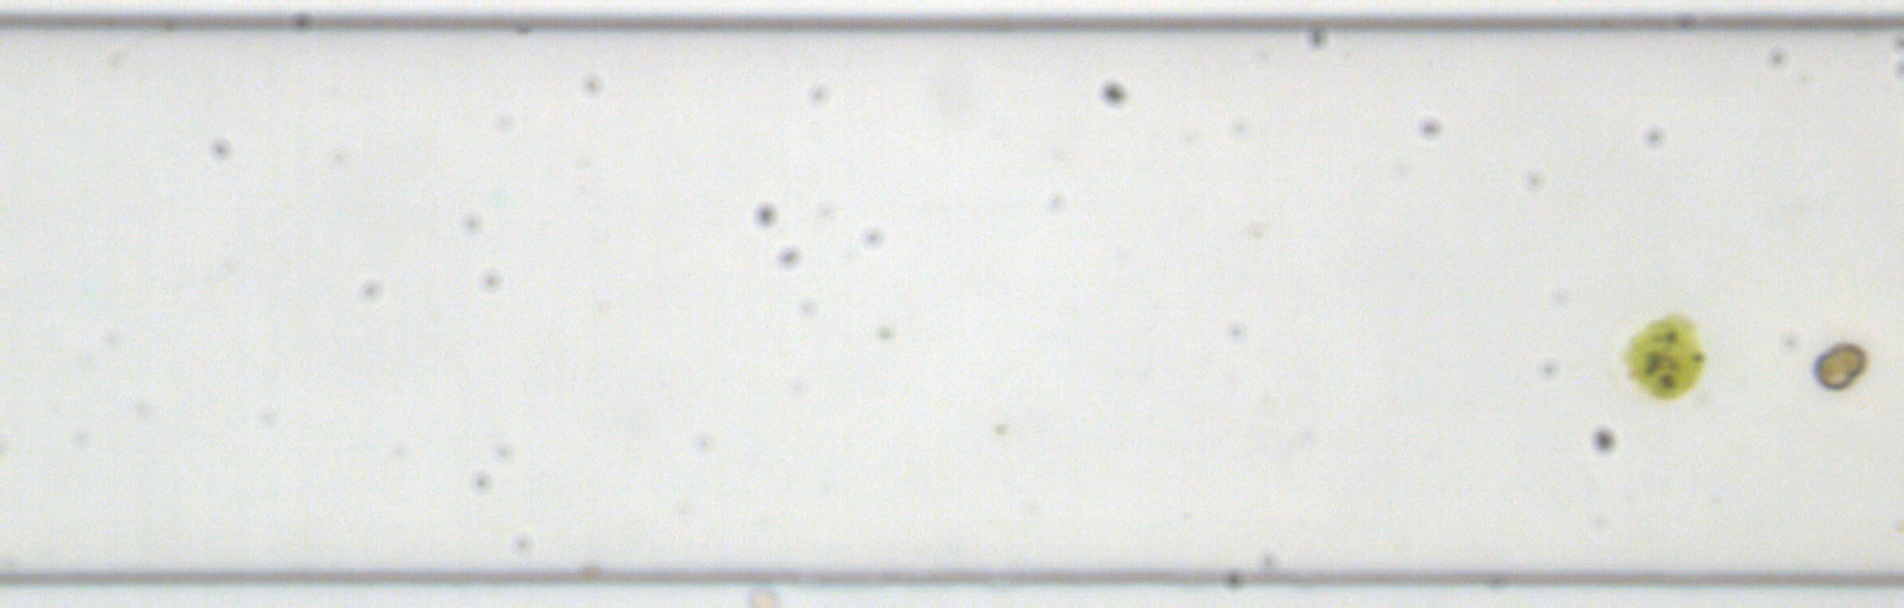Chlorella: (875, 322, 894, 341), (993, 420, 1008, 437)
Effrenium: (1810, 339, 1869, 393)
Haematococcus: (1619, 308, 1707, 405)
